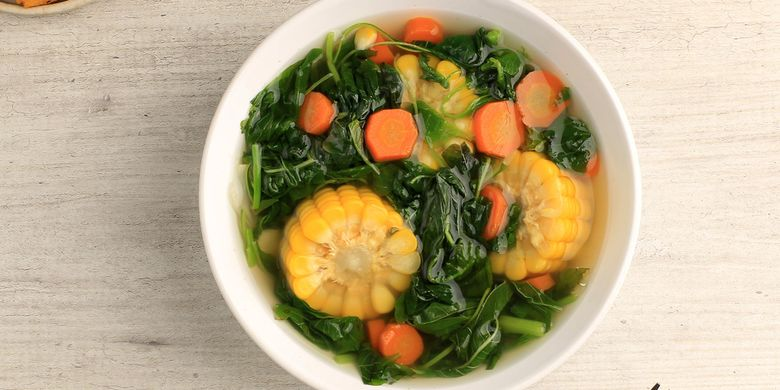Sayur Bayam: (197, 28, 618, 367)
